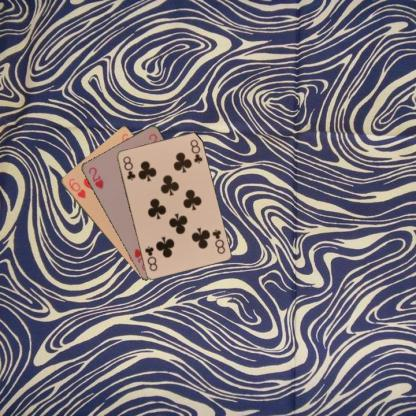2h: (86, 164, 104, 190)
6h: (66, 176, 87, 199)
8c: (209, 226, 226, 255), (121, 154, 136, 181)
